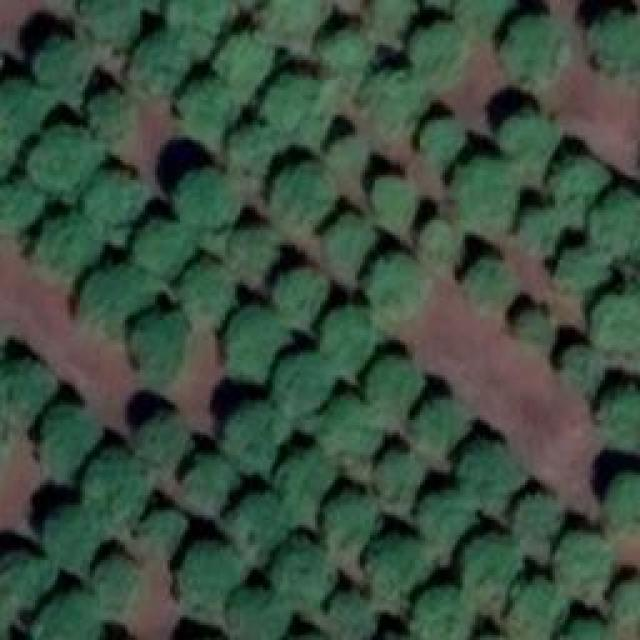Tree: (80, 447, 150, 535), (220, 305, 290, 383), (77, 265, 155, 330), (222, 395, 290, 468), (38, 402, 101, 480), (263, 538, 333, 608), (258, 70, 331, 135), (270, 160, 335, 228), (447, 155, 515, 218), (450, 440, 523, 498), (127, 308, 185, 381), (173, 165, 238, 230), (270, 348, 335, 413), (503, 13, 566, 78), (310, 398, 378, 458), (315, 488, 378, 551), (315, 305, 378, 368), (365, 253, 428, 316), (45, 505, 103, 573), (175, 535, 240, 595), (405, 22, 470, 80), (223, 490, 288, 548), (38, 210, 98, 270), (410, 585, 475, 640), (365, 67, 425, 125), (180, 453, 238, 513), (363, 355, 423, 413), (365, 532, 425, 590), (270, 268, 328, 328), (125, 38, 183, 98), (505, 575, 568, 630), (178, 260, 233, 323), (173, 83, 238, 136), (590, 192, 640, 260), (0, 360, 52, 425), (0, 550, 60, 605), (550, 530, 610, 585), (585, 3, 640, 63), (165, 0, 233, 48), (590, 290, 640, 355), (35, 590, 100, 640), (35, 127, 90, 185), (412, 398, 470, 453), (225, 587, 285, 640), (212, 33, 270, 86), (460, 255, 515, 310), (133, 218, 188, 273), (460, 530, 515, 585), (275, 450, 338, 495), (325, 215, 375, 270), (420, 488, 470, 541), (135, 508, 188, 558), (513, 493, 566, 543), (547, 155, 605, 200), (597, 380, 640, 440), (82, 170, 130, 223), (228, 225, 281, 273), (222, 125, 280, 168), (35, 37, 85, 85), (78, 0, 138, 40), (558, 342, 608, 390), (372, 450, 420, 500), (500, 113, 553, 158), (135, 418, 188, 463), (602, 470, 640, 530), (553, 248, 603, 293), (370, 175, 415, 223), (87, 90, 135, 135), (315, 28, 365, 71), (90, 553, 133, 603), (0, 80, 38, 135), (262, 0, 320, 35), (523, 205, 568, 248), (455, 0, 510, 35), (418, 218, 461, 258), (423, 115, 466, 155), (330, 588, 370, 631), (0, 180, 35, 225), (553, 615, 608, 640), (510, 302, 545, 340), (610, 578, 640, 621), (370, 0, 410, 32)
